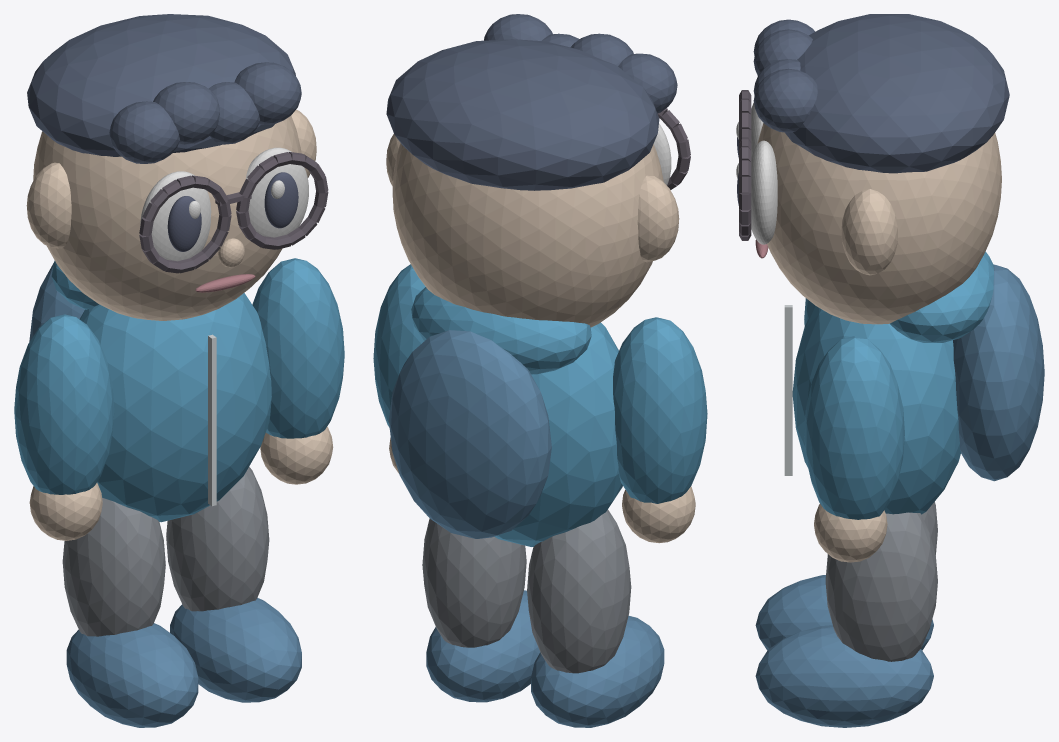
Rendered from chibi-ocean.glb.
The picture shows the model from 3 angles, left to right: view 1: azimuth 30°, elevation 25°; view 2: azimuth 150°, elevation 25°; view 3: azimuth 270°, elevation 25°; orthographic projection.
Visible parts, largest first — view 1: Torso_7, Head_1, Hair_2, Arm_15, Arm_41, Leg_17, Shoe_18, Leg_43, Shoe_44, HairTuft_3, Ear_11, Hand_16 (+14 smaller); view 2: Hair_2, Head_1, Backpack_10, Arm_15, Torso_7, Leg_17, Leg_43, Shoe_18, Hood_8, Shoe_44, Arm_41, Ear_11 (+5 smaller); view 3: Head_1, Hair_2, Arm_41, Backpack_10, Torso_7, Shoe_44, Leg_43, Hood_8, Ear_37, Shoe_18, HairTuft_6, Hand_42 (+4 smaller).
Part boxes in pixels (box(x1,y1,x2,y2)): Torso_7: box(79, 293, 271, 522); Head_1: box(33, 116, 301, 320); Hair_2: box(27, 14, 295, 156); Arm_15: box(14, 314, 114, 494); Arm_41: box(252, 258, 344, 438); Leg_17: box(62, 497, 165, 636); Shoe_18: box(66, 623, 198, 727); Leg_43: box(166, 466, 269, 611); Shoe_44: box(170, 598, 301, 702); HairTuft_3: box(109, 101, 179, 163); Ear_11: box(26, 162, 71, 248); Hand_16: box(29, 483, 102, 540); Hair_2: box(386, 39, 659, 190); Head_1: box(392, 143, 663, 327); Backpack_10: box(388, 330, 551, 538); Arm_15: box(613, 317, 707, 503); Torso_7: box(494, 322, 622, 546); Leg_17: box(527, 509, 631, 673); Leg_43: box(422, 518, 526, 647); Shoe_18: box(531, 616, 664, 727); Hood_8: box(411, 287, 591, 374); Shoe_44: box(426, 590, 540, 702); Arm_41: box(373, 264, 425, 427); Ear_11: box(637, 175, 679, 262); Head_1: box(757, 123, 1001, 324); Hair_2: box(785, 14, 1009, 173); Arm_41: box(804, 336, 904, 519); Backpack_10: box(953, 264, 1044, 481); Torso_7: box(792, 306, 960, 514); Shoe_44: box(755, 625, 933, 727); Leg_43: box(825, 512, 937, 661); Hood_8: box(890, 251, 993, 342); Ear_37: box(841, 189, 897, 275); Shoe_18: box(755, 575, 933, 650); HairTuft_6: box(753, 68, 817, 132); Hand_42: box(814, 504, 887, 562).
Size of the model in its own units: 0.95 by 1.87 by 0.795.
